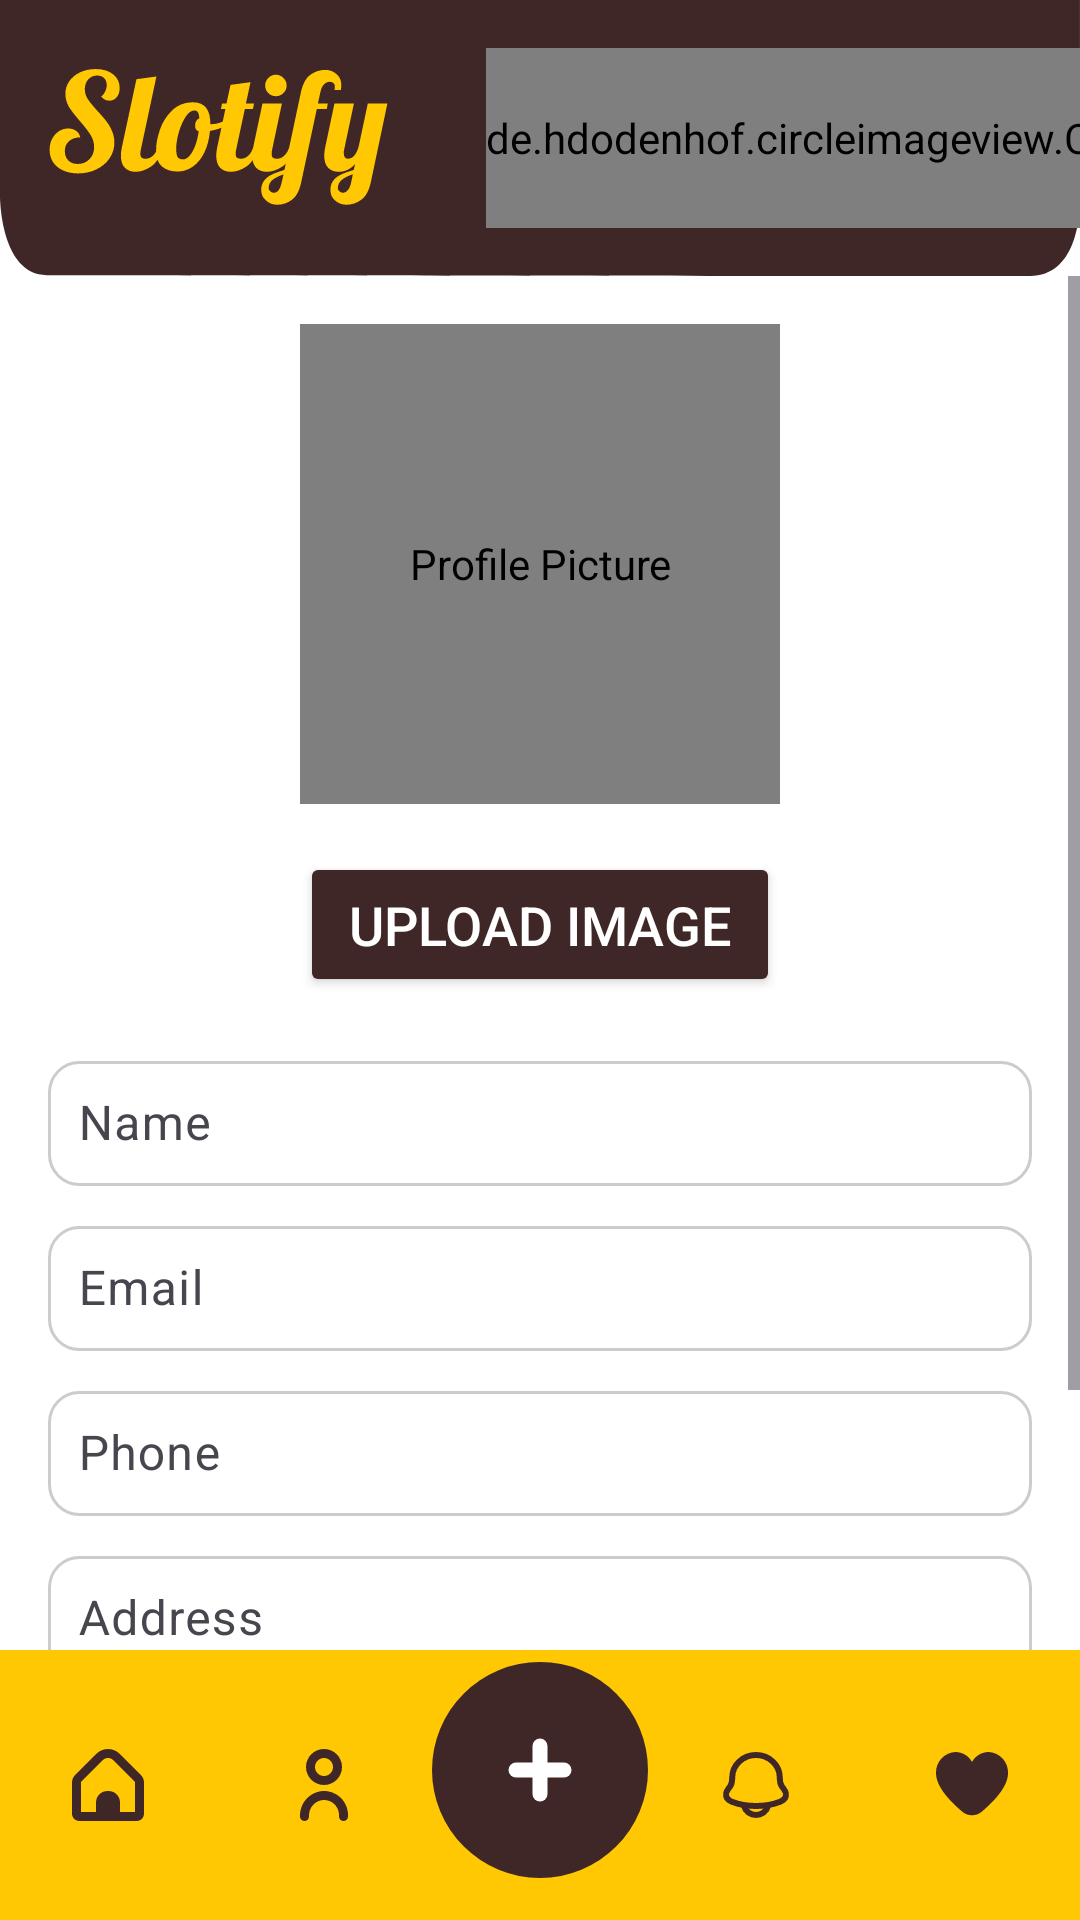

Icon bounding boxes for this 1080w x 1920h phone screenshot, format rect(x1, y1, x2, y2):
Add: rect(432, 1662, 648, 1878)
Favorite: rect(936, 1752, 1008, 1816)
Home: rect(72, 1749, 144, 1821)
Notification: rect(723, 1752, 789, 1818)
Profile: rect(300, 1749, 348, 1821)
